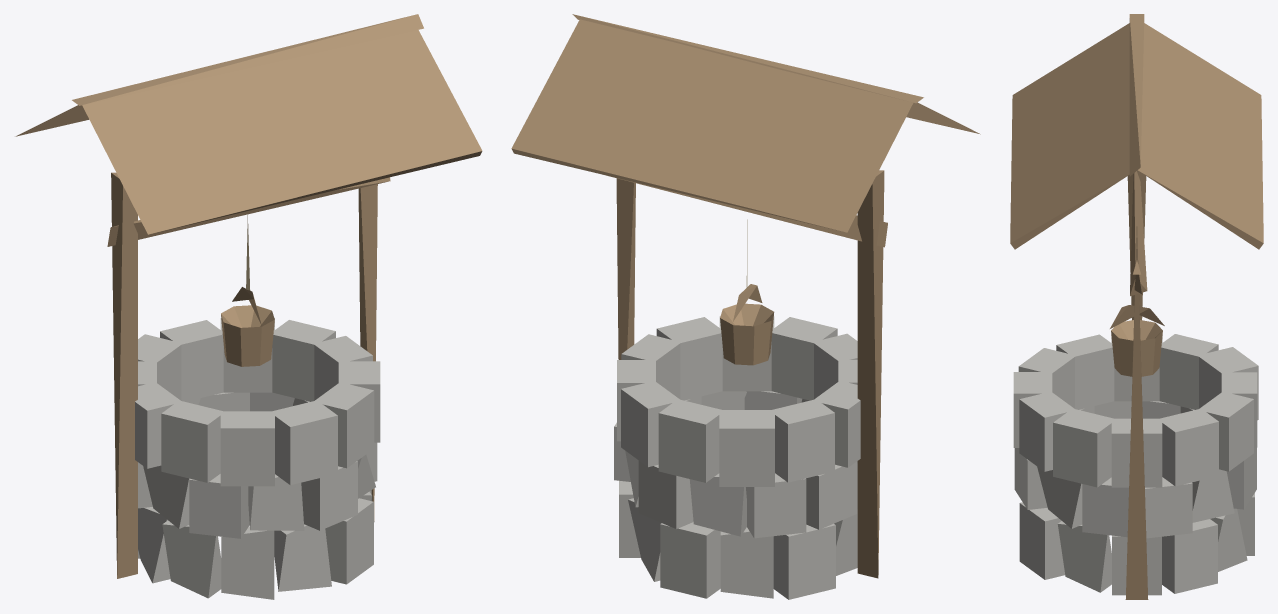
File: 40-Infraestructura_pozo_piedra.glb
3 renders of one model, left to right at view 1: azimuth 30°, elevation 25°; view 2: azimuth 150°, elevation 25°; view 3: azimuth 270°, elevation 25°, orthographic. The views are drawn at different scales.
Visible parts, largest first — view 1: SM_Pozo_M_Piedra_Pozo_Madera_Pozo_Cuerda_Pozo_Agua_Pozo; view 2: SM_Pozo_M_Piedra_Pozo_Madera_Pozo_Cuerda_Pozo_Agua_Pozo; view 3: SM_Pozo_M_Piedra_Pozo_Madera_Pozo_Cuerda_Pozo_Agua_Pozo.
Part boxes in pixels (x1=…): SM_Pozo_M_Piedra_Pozo_Madera_Pozo_Cuerda_Pozo_Agua_Pozo: x1=15, y1=14, x2=482, y2=599; SM_Pozo_M_Piedra_Pozo_Madera_Pozo_Cuerda_Pozo_Agua_Pozo: x1=511, y1=14, x2=980, y2=599; SM_Pozo_M_Piedra_Pozo_Madera_Pozo_Cuerda_Pozo_Agua_Pozo: x1=1010, y1=14, x2=1263, y2=599.
Size of the model in its own units: 1.52 by 2.02 by 1.02.
